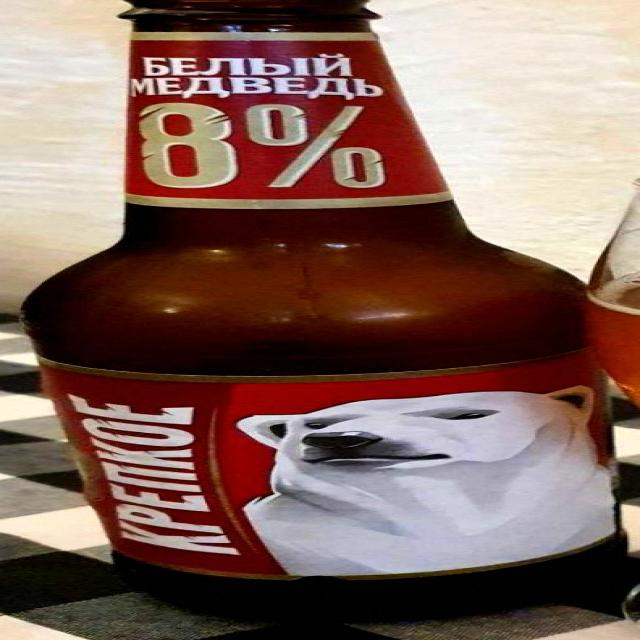Bely Medved Krepkoe: (1, 0, 640, 640)
